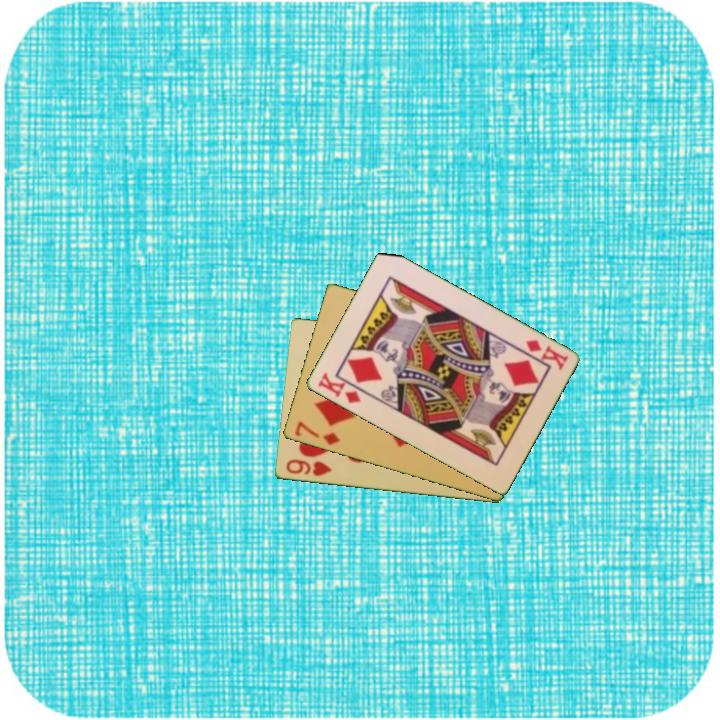7d: (291, 418, 342, 449)
9h: (282, 456, 334, 479)
Kd: (314, 369, 370, 407), (522, 336, 571, 373)
